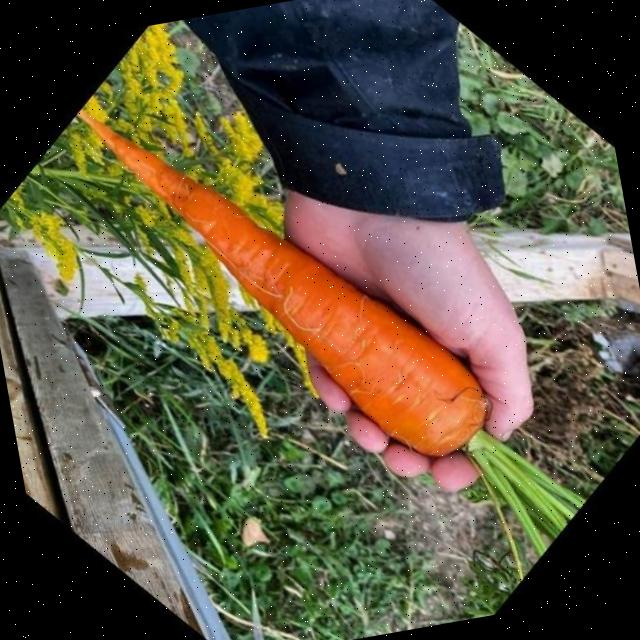carrot: (79, 109, 583, 553)
